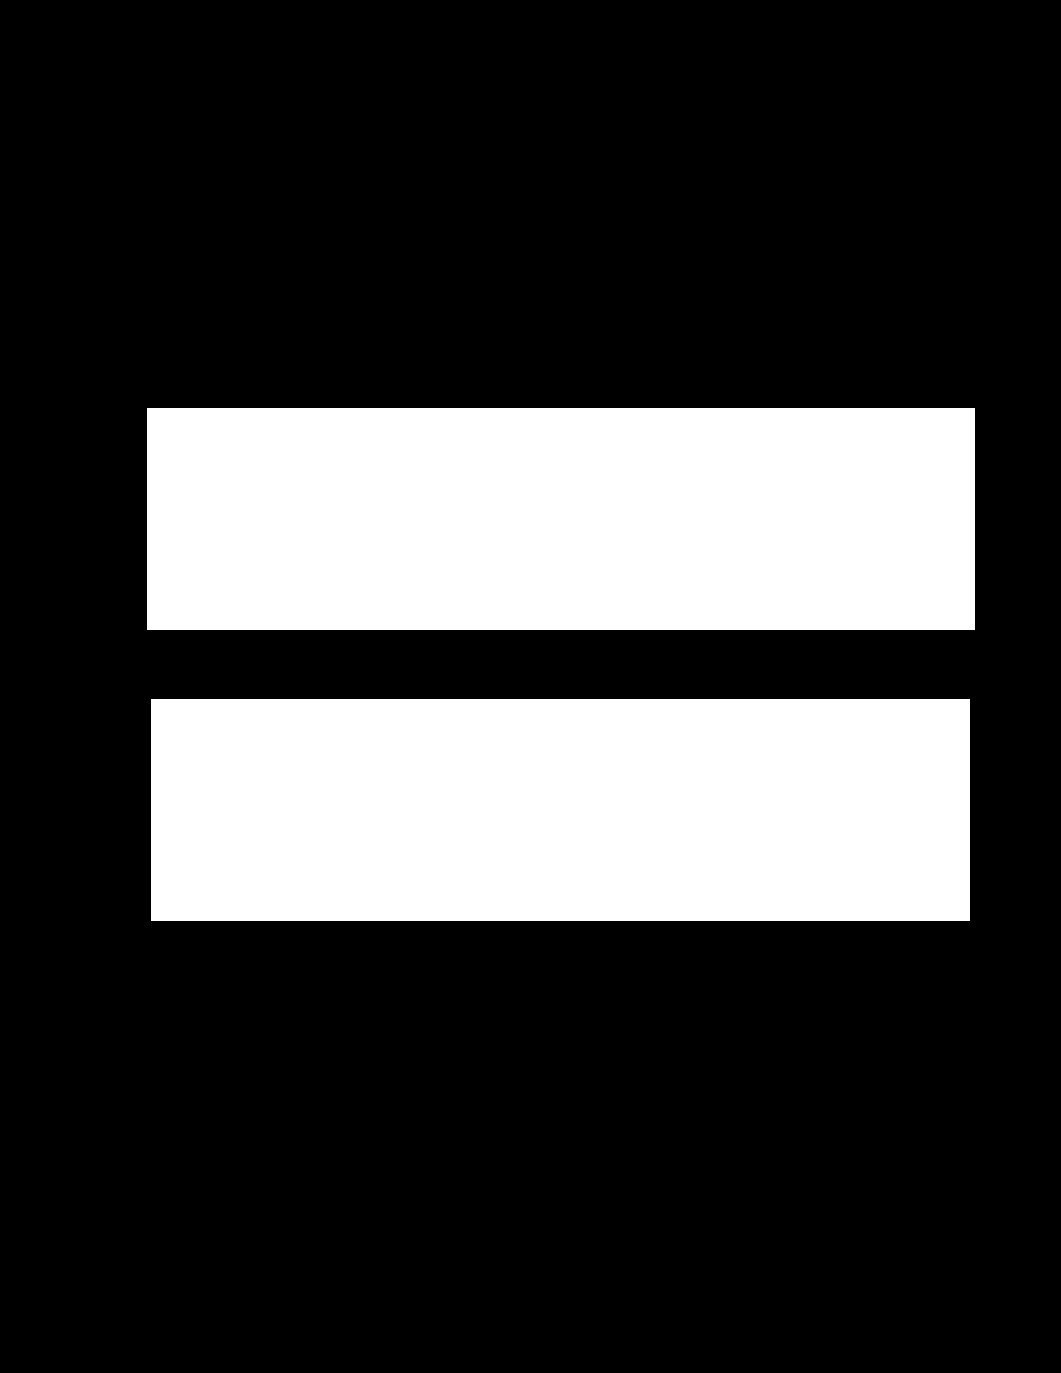table: (147, 408, 974, 629), (150, 699, 968, 921)
